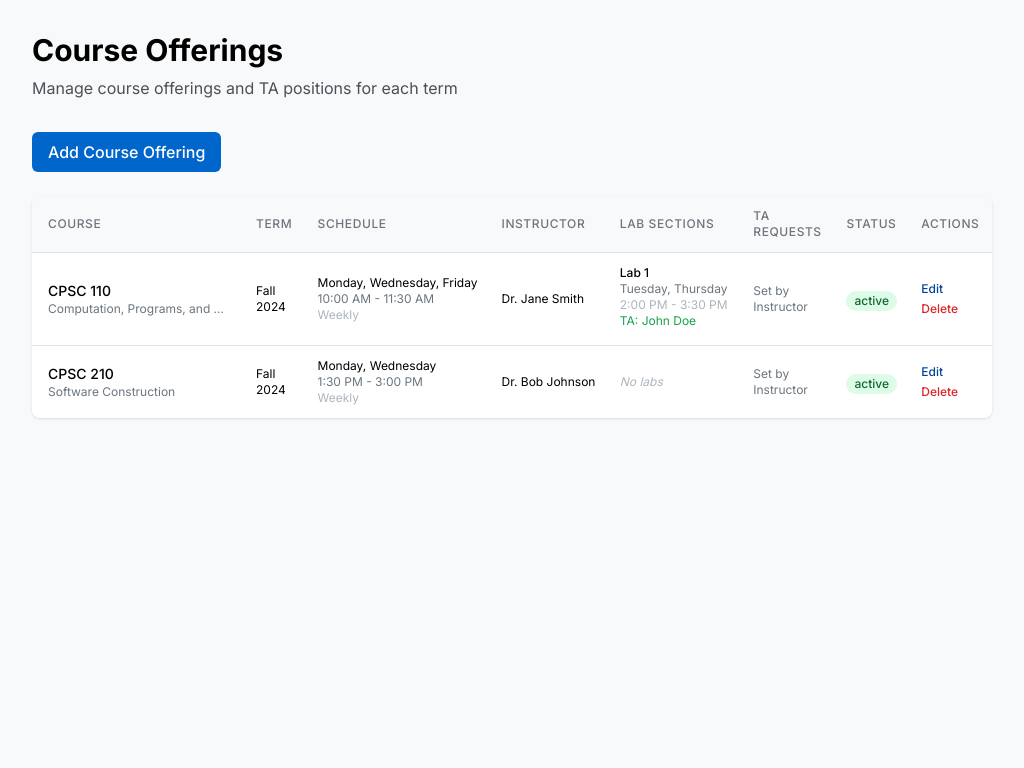
Scenario: CourseOfferingsPage › Lab Sections Management › displays lab sections section in the form
The image size is (1024, 768).
Click the button "Add Course Offering" at {"x": 127, "y": 152}, box [32,132,221,172]
(page scrolled)
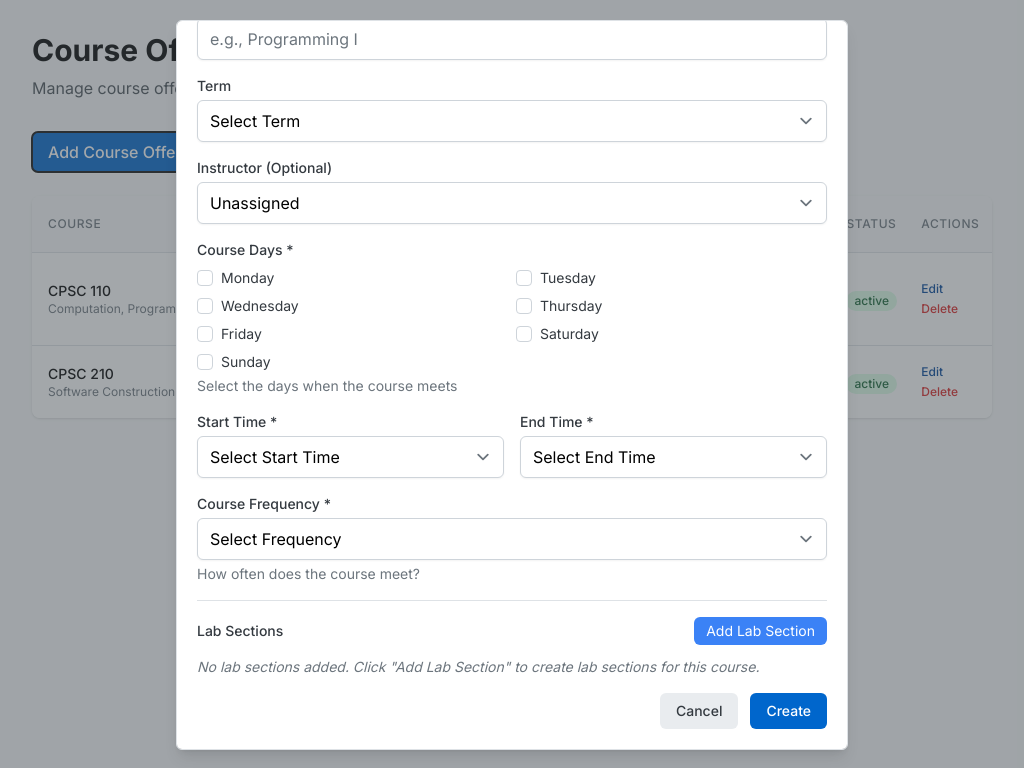
Check: the number of column headings "Lab Sections" is 2, box [608,196,741,252]; [197,621,283,641]
Check: the button "Add Lab Section" is shown, box [694,617,827,645]
